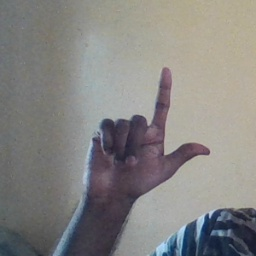L: (80, 64, 214, 191)
